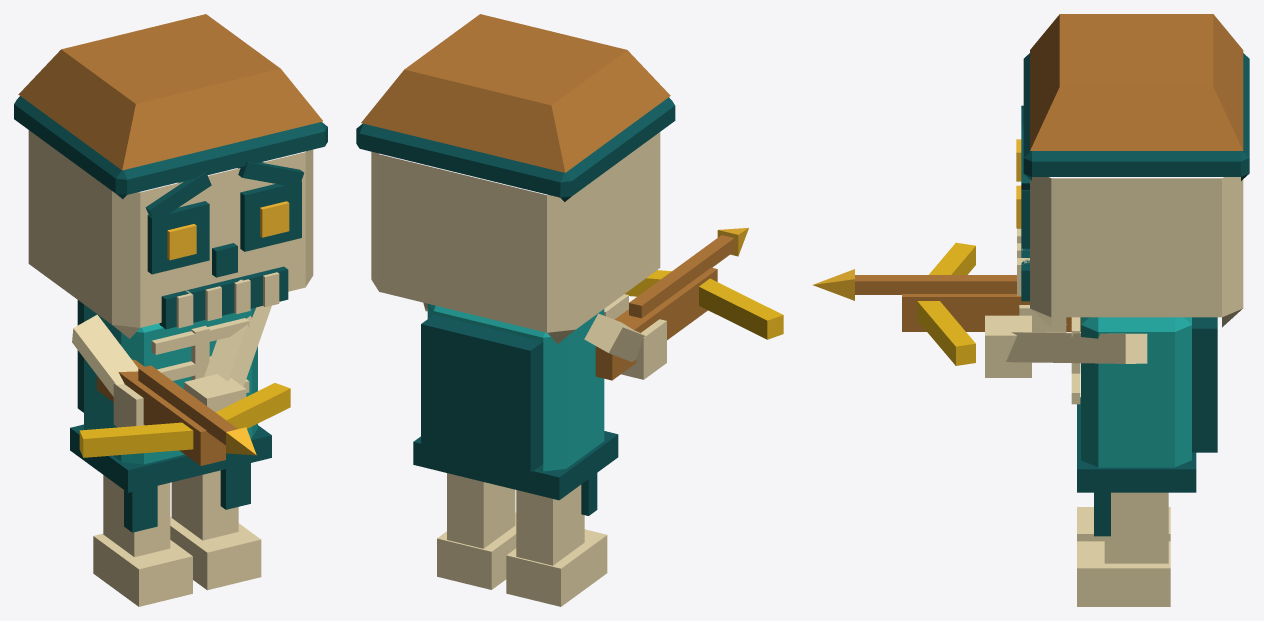
Rendered from gunner_r5.glb.
3 views of the same model, side by side, from view 1: azimuth 30°, elevation 25°; view 2: azimuth 150°, elevation 25°; view 3: azimuth 270°, elevation 25° (orthographic). The views are drawn at different scales.
Visible parts, largest first — view 1: gunner_r5_mesh; view 2: gunner_r5_mesh; view 3: gunner_r5_mesh.
Part boxes in pixels (x1=…): gunner_r5_mesh: x1=14, y1=14, x2=327, y2=606; gunner_r5_mesh: x1=356, y1=14, x2=783, y2=606; gunner_r5_mesh: x1=813, y1=14, x2=1249, y2=606.
Size of the model in its own units: 0.9217 by 1.6 by 1.21.
1 material, 1 textured.
